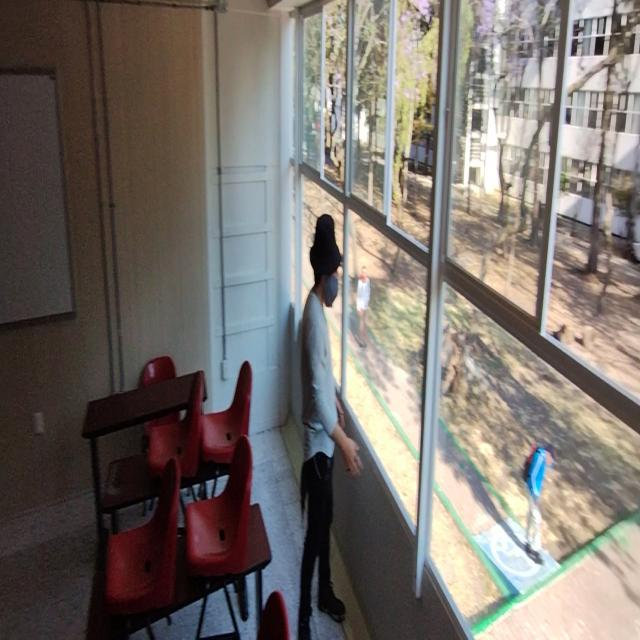adult: (296, 214, 362, 640)
